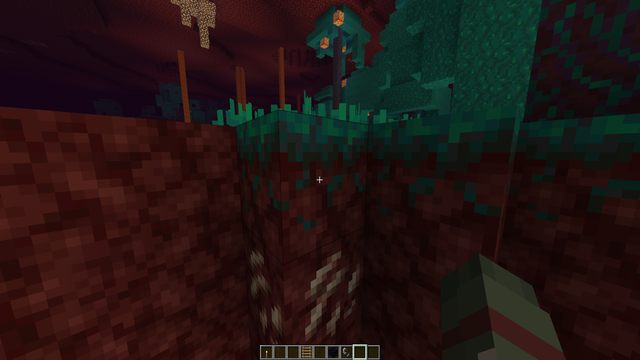quartz: (242, 238, 367, 341)
